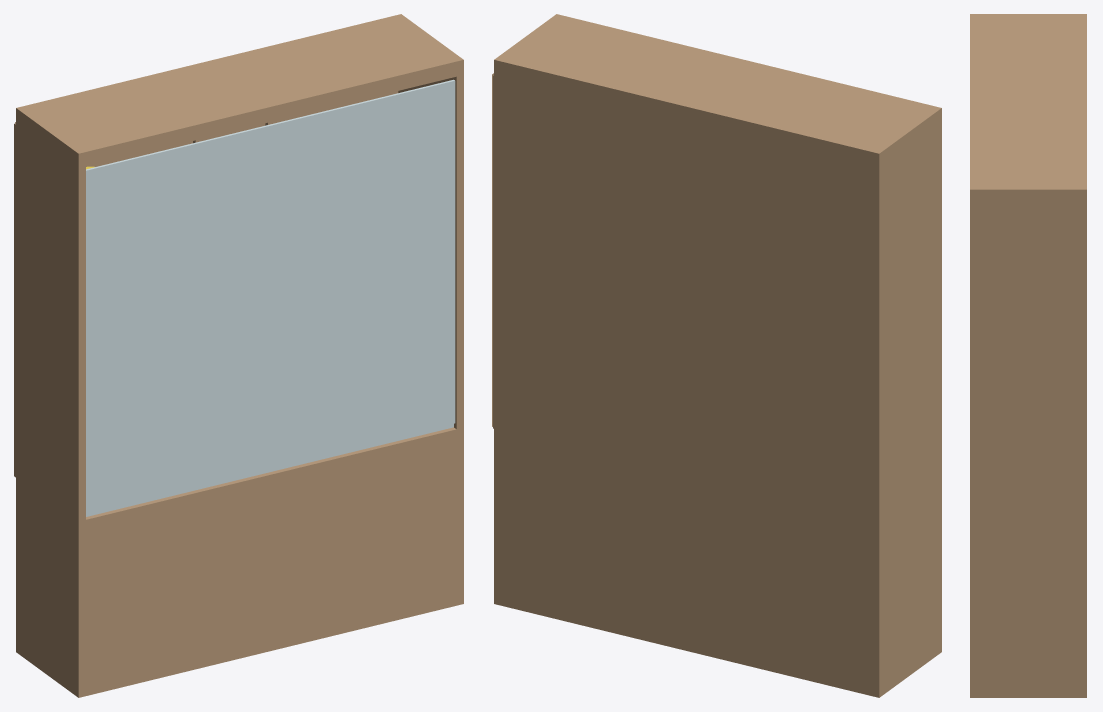
The model's file is Trophy_Cabinet.fbx.
3 views of the same model, side by side, from view 1: azimuth 30°, elevation 25°; view 2: azimuth 150°, elevation 25°; view 3: azimuth 270°, elevation 25° (orthographic). The views are drawn at different scales.
Visible parts, largest first — view 1: Trophy_Cabinet; view 2: Trophy_Cabinet; view 3: Trophy_Cabinet.
Boxes of the visible parts, bbox=[...] form: Trophy_Cabinet: bbox=[14, 14, 463, 697]; Trophy_Cabinet: bbox=[492, 14, 941, 697]; Trophy_Cabinet: bbox=[970, 14, 1086, 697].
Size of the model in its own units: 1.62 by 2.16 by 0.458.
